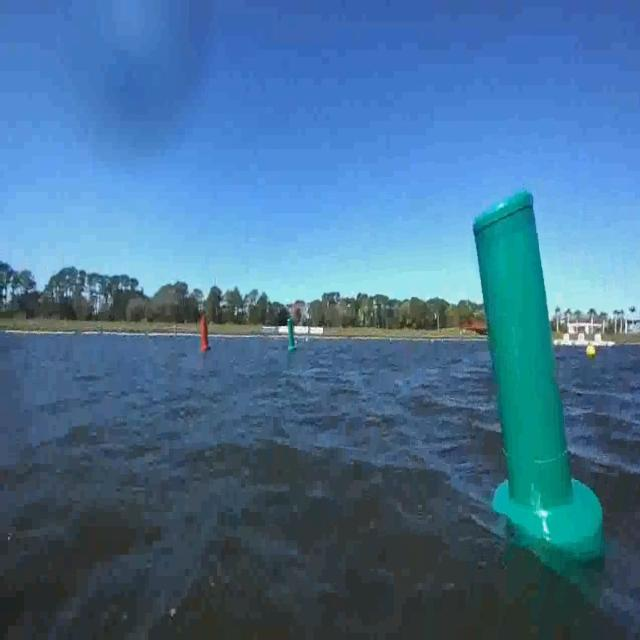green-column-buoy: (451, 203, 605, 570), (287, 312, 298, 352)
red-column-buoy: (195, 306, 213, 362)
